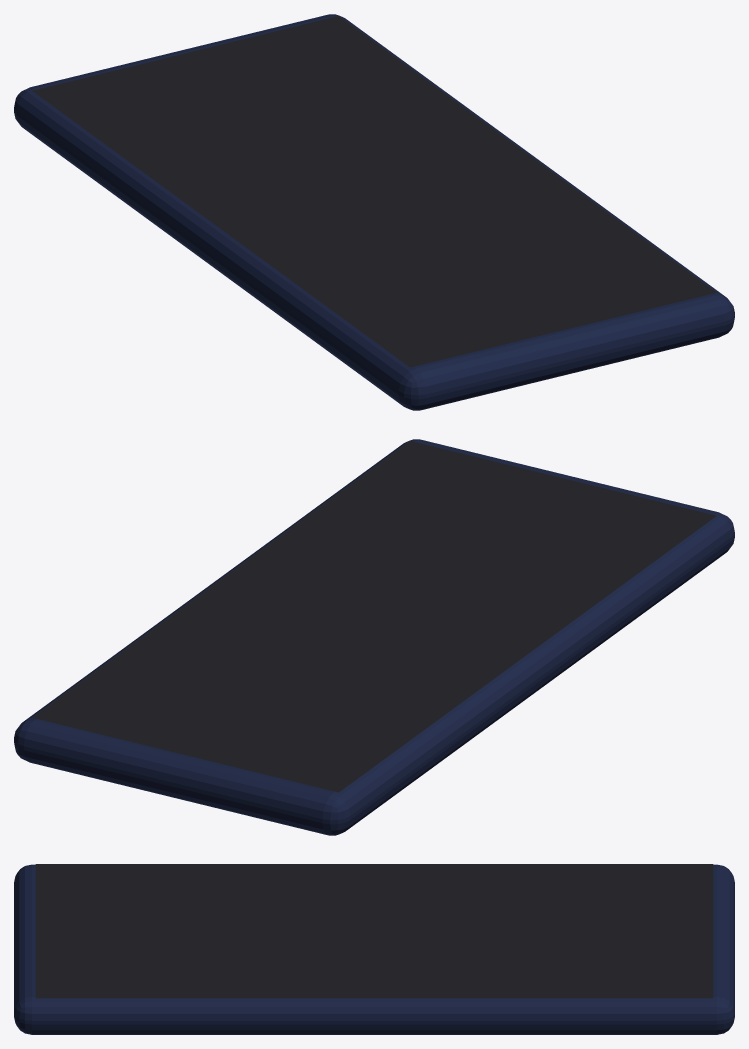
Rendered from infinix-note-12-pro-5g-2022.glb.
The picture shows the model from 3 angles, top to bottom: view 1: azimuth 30°, elevation 25°; view 2: azimuth 150°, elevation 25°; view 3: azimuth 270°, elevation 25°; orthographic projection. The views are drawn at different scales.
Visible parts, largest first — view 1: Phone_Screen, Phone_Body; view 2: Phone_Screen, Phone_Body; view 3: Phone_Screen, Phone_Body.
Part boxes in pixels (x1,y1,x2,y2): Phone_Screen: [32, 16, 716, 367]; Phone_Body: [14, 14, 734, 410]; Phone_Screen: [32, 441, 716, 792]; Phone_Body: [14, 439, 734, 835]; Phone_Screen: [35, 864, 713, 998]; Phone_Body: [14, 864, 734, 1034].
Size of the model in its own units: 0.0757 by 0.0089 by 0.1581.
